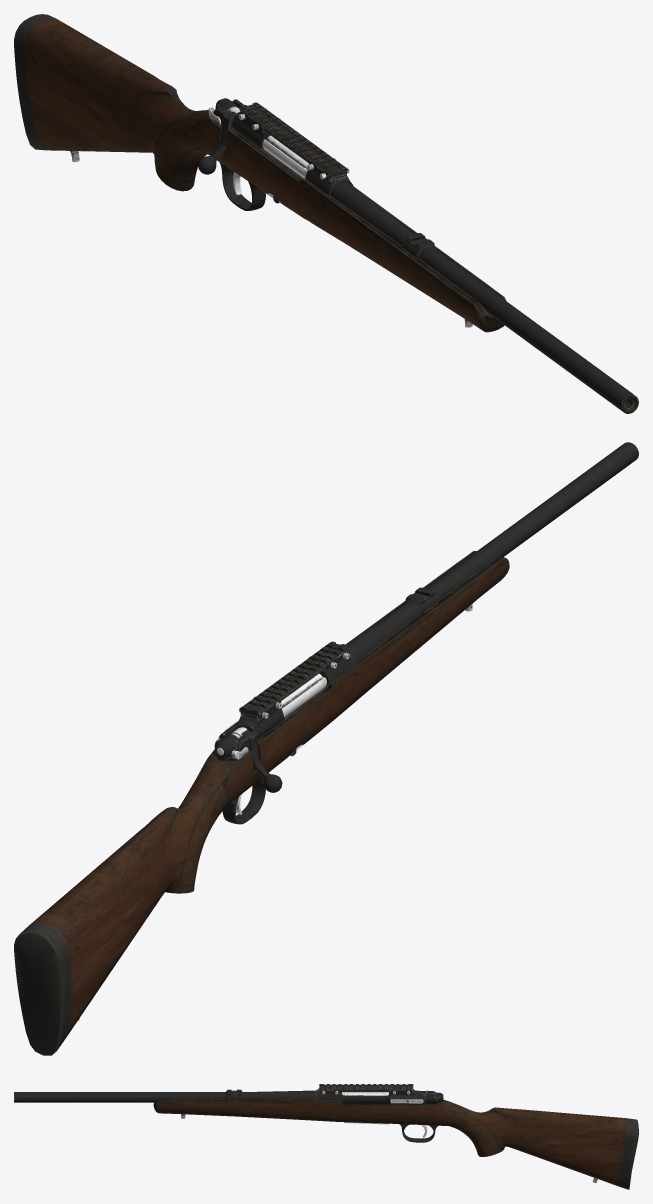
The model's file is authored-sniper-m700.glb.
3 renders of one model, top to bottom at view 1: azimuth 30°, elevation 25°; view 2: azimuth 150°, elevation 25°; view 3: azimuth 270°, elevation 25°, orthographic. The views are drawn at different scales.
Parts seen in each view (by area): view 1: FRAME_LOD0.001, FRAME_LOD0; view 2: FRAME_LOD0.001, FRAME_LOD0; view 3: FRAME_LOD0.001, FRAME_LOD0.
Part boxes in pixels (bbox=[...]): FRAME_LOD0.001: bbox=[14, 14, 638, 413]; FRAME_LOD0: bbox=[239, 102, 349, 180]; FRAME_LOD0.001: bbox=[14, 442, 638, 1055]; FRAME_LOD0: bbox=[239, 641, 349, 720]; FRAME_LOD0.001: bbox=[14, 1088, 638, 1189]; FRAME_LOD0: bbox=[319, 1084, 413, 1094].
Bounding box in the file's own units: 0.0658 × 0.192 × 1.06.
Materials: 3 (3 with a texture image).
